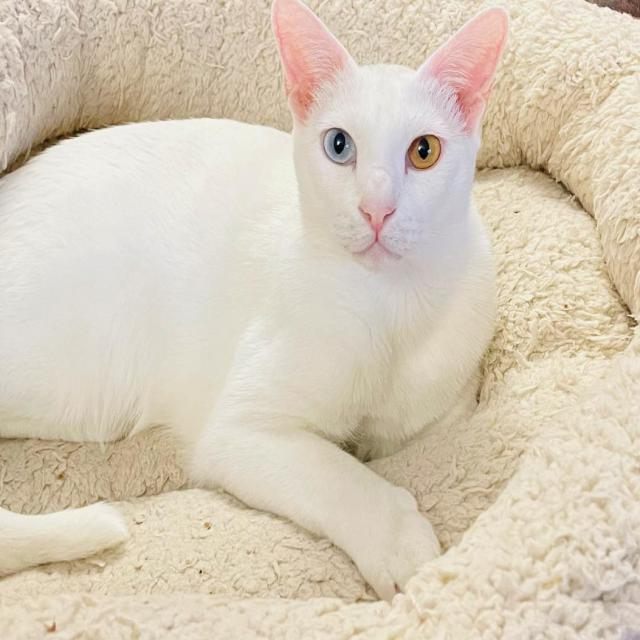Khao Manee: (0, 0, 512, 610)
